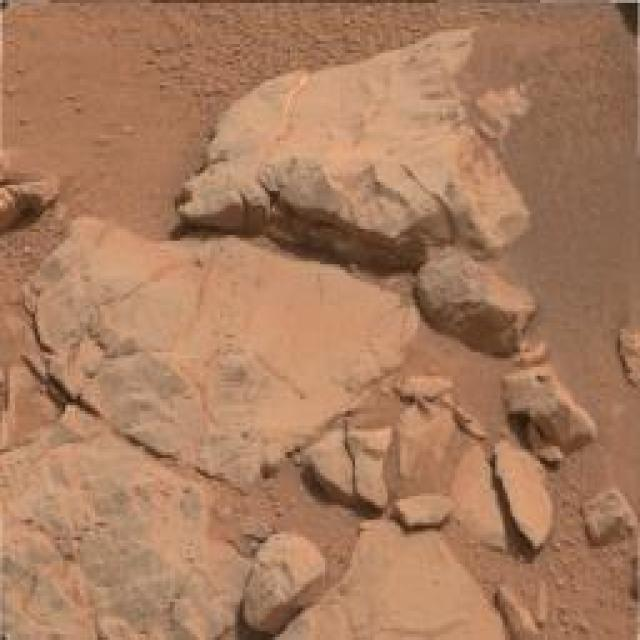rock: (21, 210, 426, 494), (170, 29, 548, 270), (0, 401, 254, 640), (265, 519, 522, 640), (414, 255, 539, 352), (504, 364, 599, 461), (242, 530, 321, 629), (489, 440, 557, 554), (450, 438, 502, 552), (394, 398, 455, 486), (0, 147, 54, 240), (349, 418, 392, 521), (304, 428, 356, 503), (579, 490, 636, 544), (490, 581, 542, 640), (396, 486, 454, 532), (398, 376, 458, 412), (612, 317, 640, 393)
